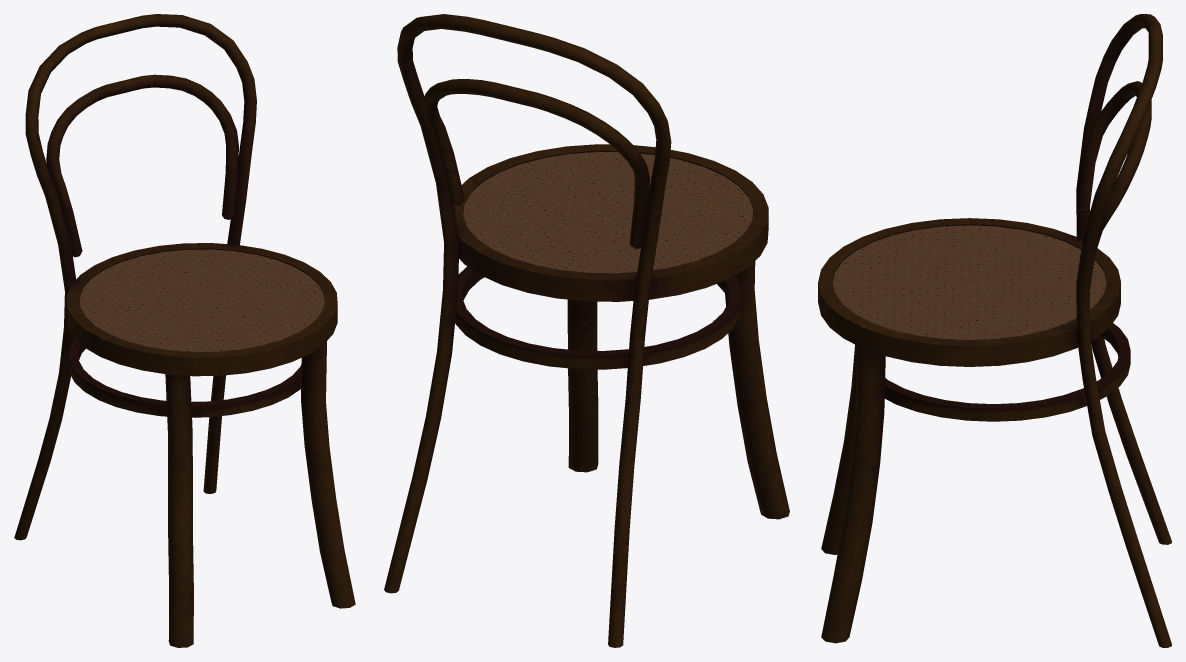
File: thonet-14.glb
The picture shows the model from 3 angles, left to right: view 1: azimuth 30°, elevation 25°; view 2: azimuth 150°, elevation 25°; view 3: azimuth 270°, elevation 25°; orthographic projection. The views are drawn at different scales.
Visible parts, largest first — view 1: Tube004__0; view 2: Tube004__0; view 3: Tube004__0.
Boxes of the visible parts, x1,y1,x2,y2 form: Tube004__0: (14, 14, 355, 647); Tube004__0: (384, 14, 789, 647); Tube004__0: (818, 14, 1171, 647).
Size of the model in its own units: 0.5729 by 1.15 by 0.6687.
Materials: 1 (1 with a texture image).
